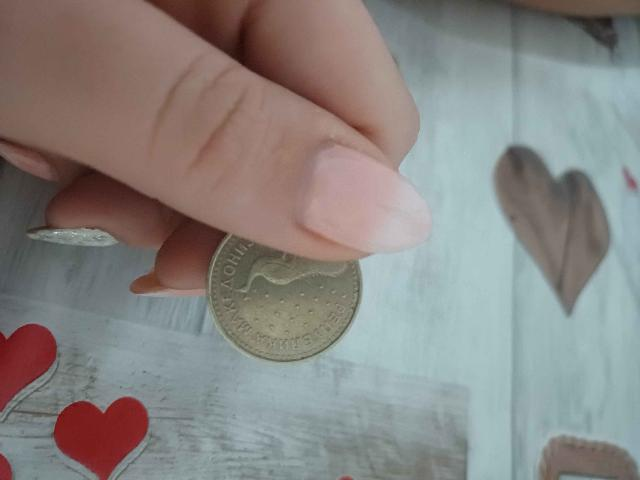10_coin: (207, 235, 361, 362)
